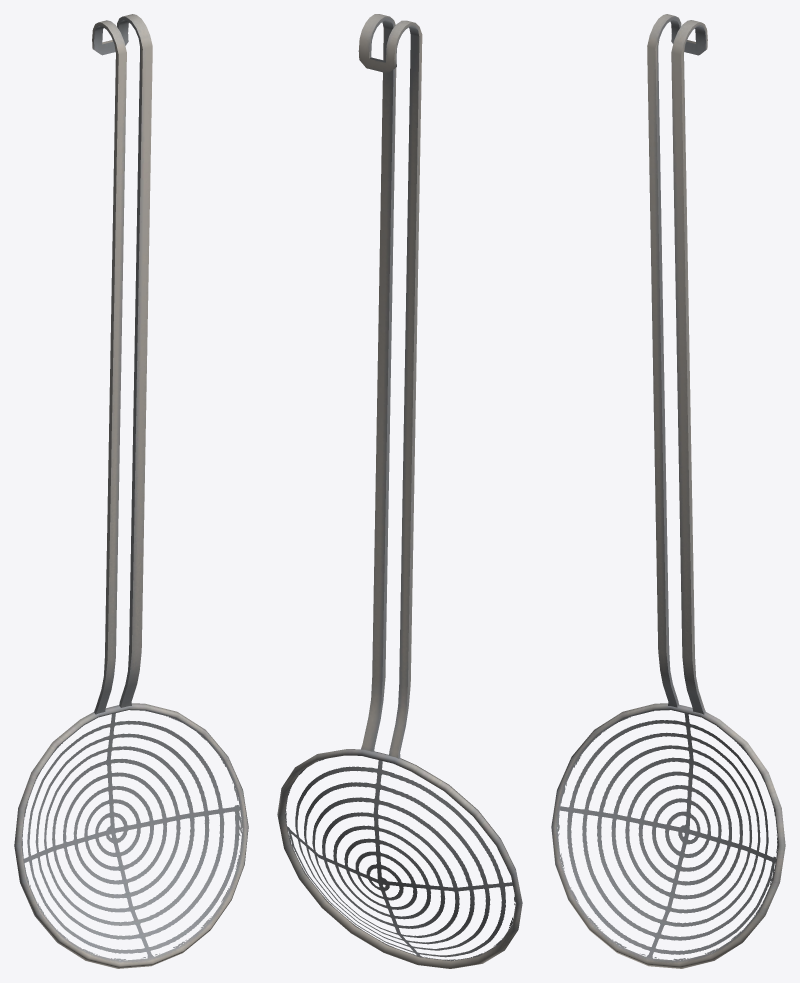
File: SM_Utensil_06.glb
The picture shows the model from 3 angles, left to right: view 1: azimuth 30°, elevation 25°; view 2: azimuth 150°, elevation 25°; view 3: azimuth 330°, elevation 25°; orthographic projection. The views are drawn at different scales.
Parts seen in each view (by area): view 1: SM_Utensil_06; view 2: SM_Utensil_06; view 3: SM_Utensil_06.
Part boxes in pixels (left/top/right/bottom): SM_Utensil_06: left=14, top=14, right=248, bottom=968; SM_Utensil_06: left=277, top=14, right=522, bottom=968; SM_Utensil_06: left=551, top=14, right=785, bottom=968.
Bounding box in the file's own units: 0.1235 × 0.4767 × 0.0417.
1 material, 1 textured.
